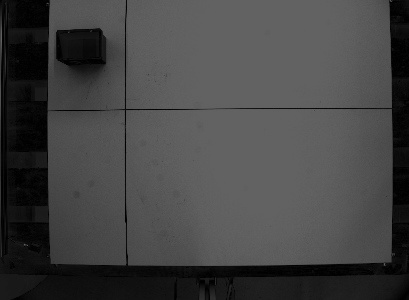kltxs: (52, 26, 110, 66)
